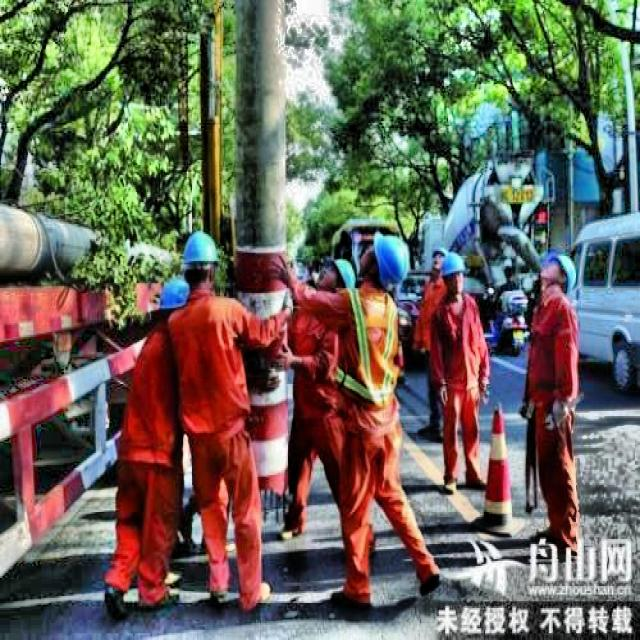helmet: (362, 233, 410, 298), (180, 229, 224, 296), (535, 250, 579, 296), (316, 256, 358, 300), (439, 250, 469, 296)
